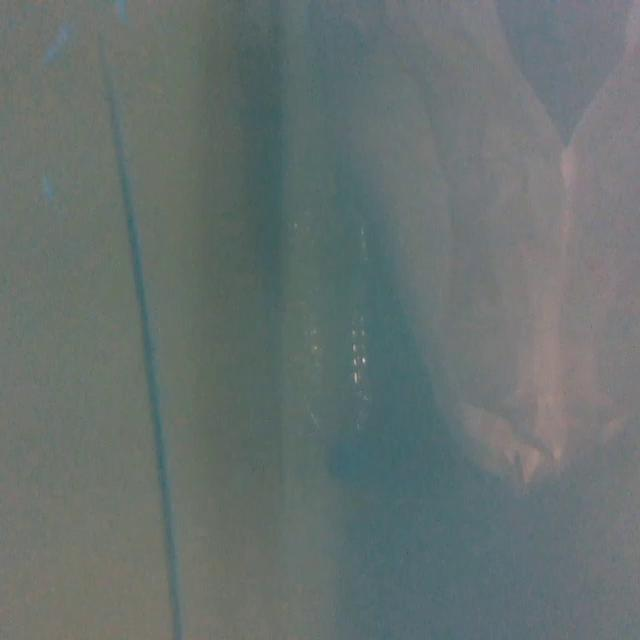plastic bags: (344, 0, 640, 530)
plastic bottle: (260, 188, 394, 488)
